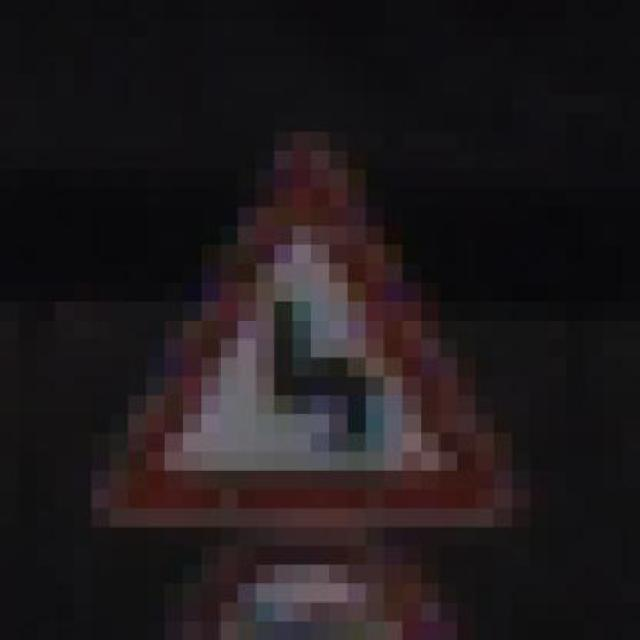Left Zig Zag Traffic: (54, 112, 512, 546)
